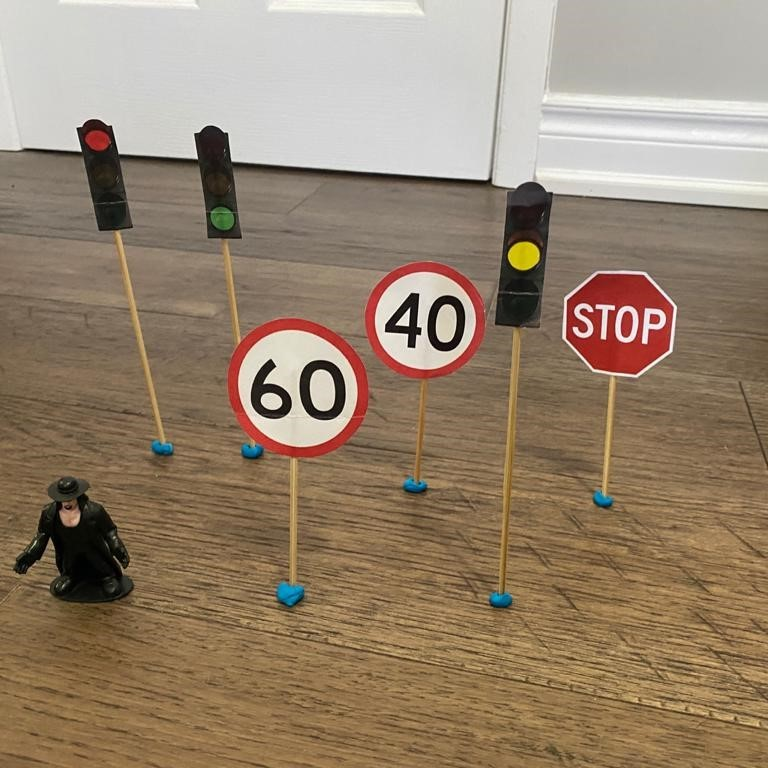Green Traffic Light: (190, 122, 246, 243)
Person: (8, 470, 137, 608)
Red Traffic Light: (74, 115, 136, 239)
Speed Limit 40: (367, 255, 485, 384)
Speed Limit 60: (224, 312, 371, 466)
Stop Sign: (562, 267, 682, 382)
Yellow Traffic Light: (492, 175, 559, 340)
